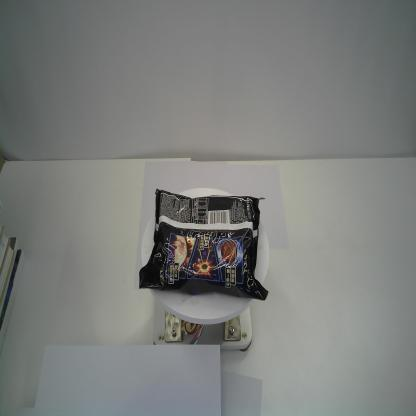Instant Noodles: (139, 186, 269, 301)
